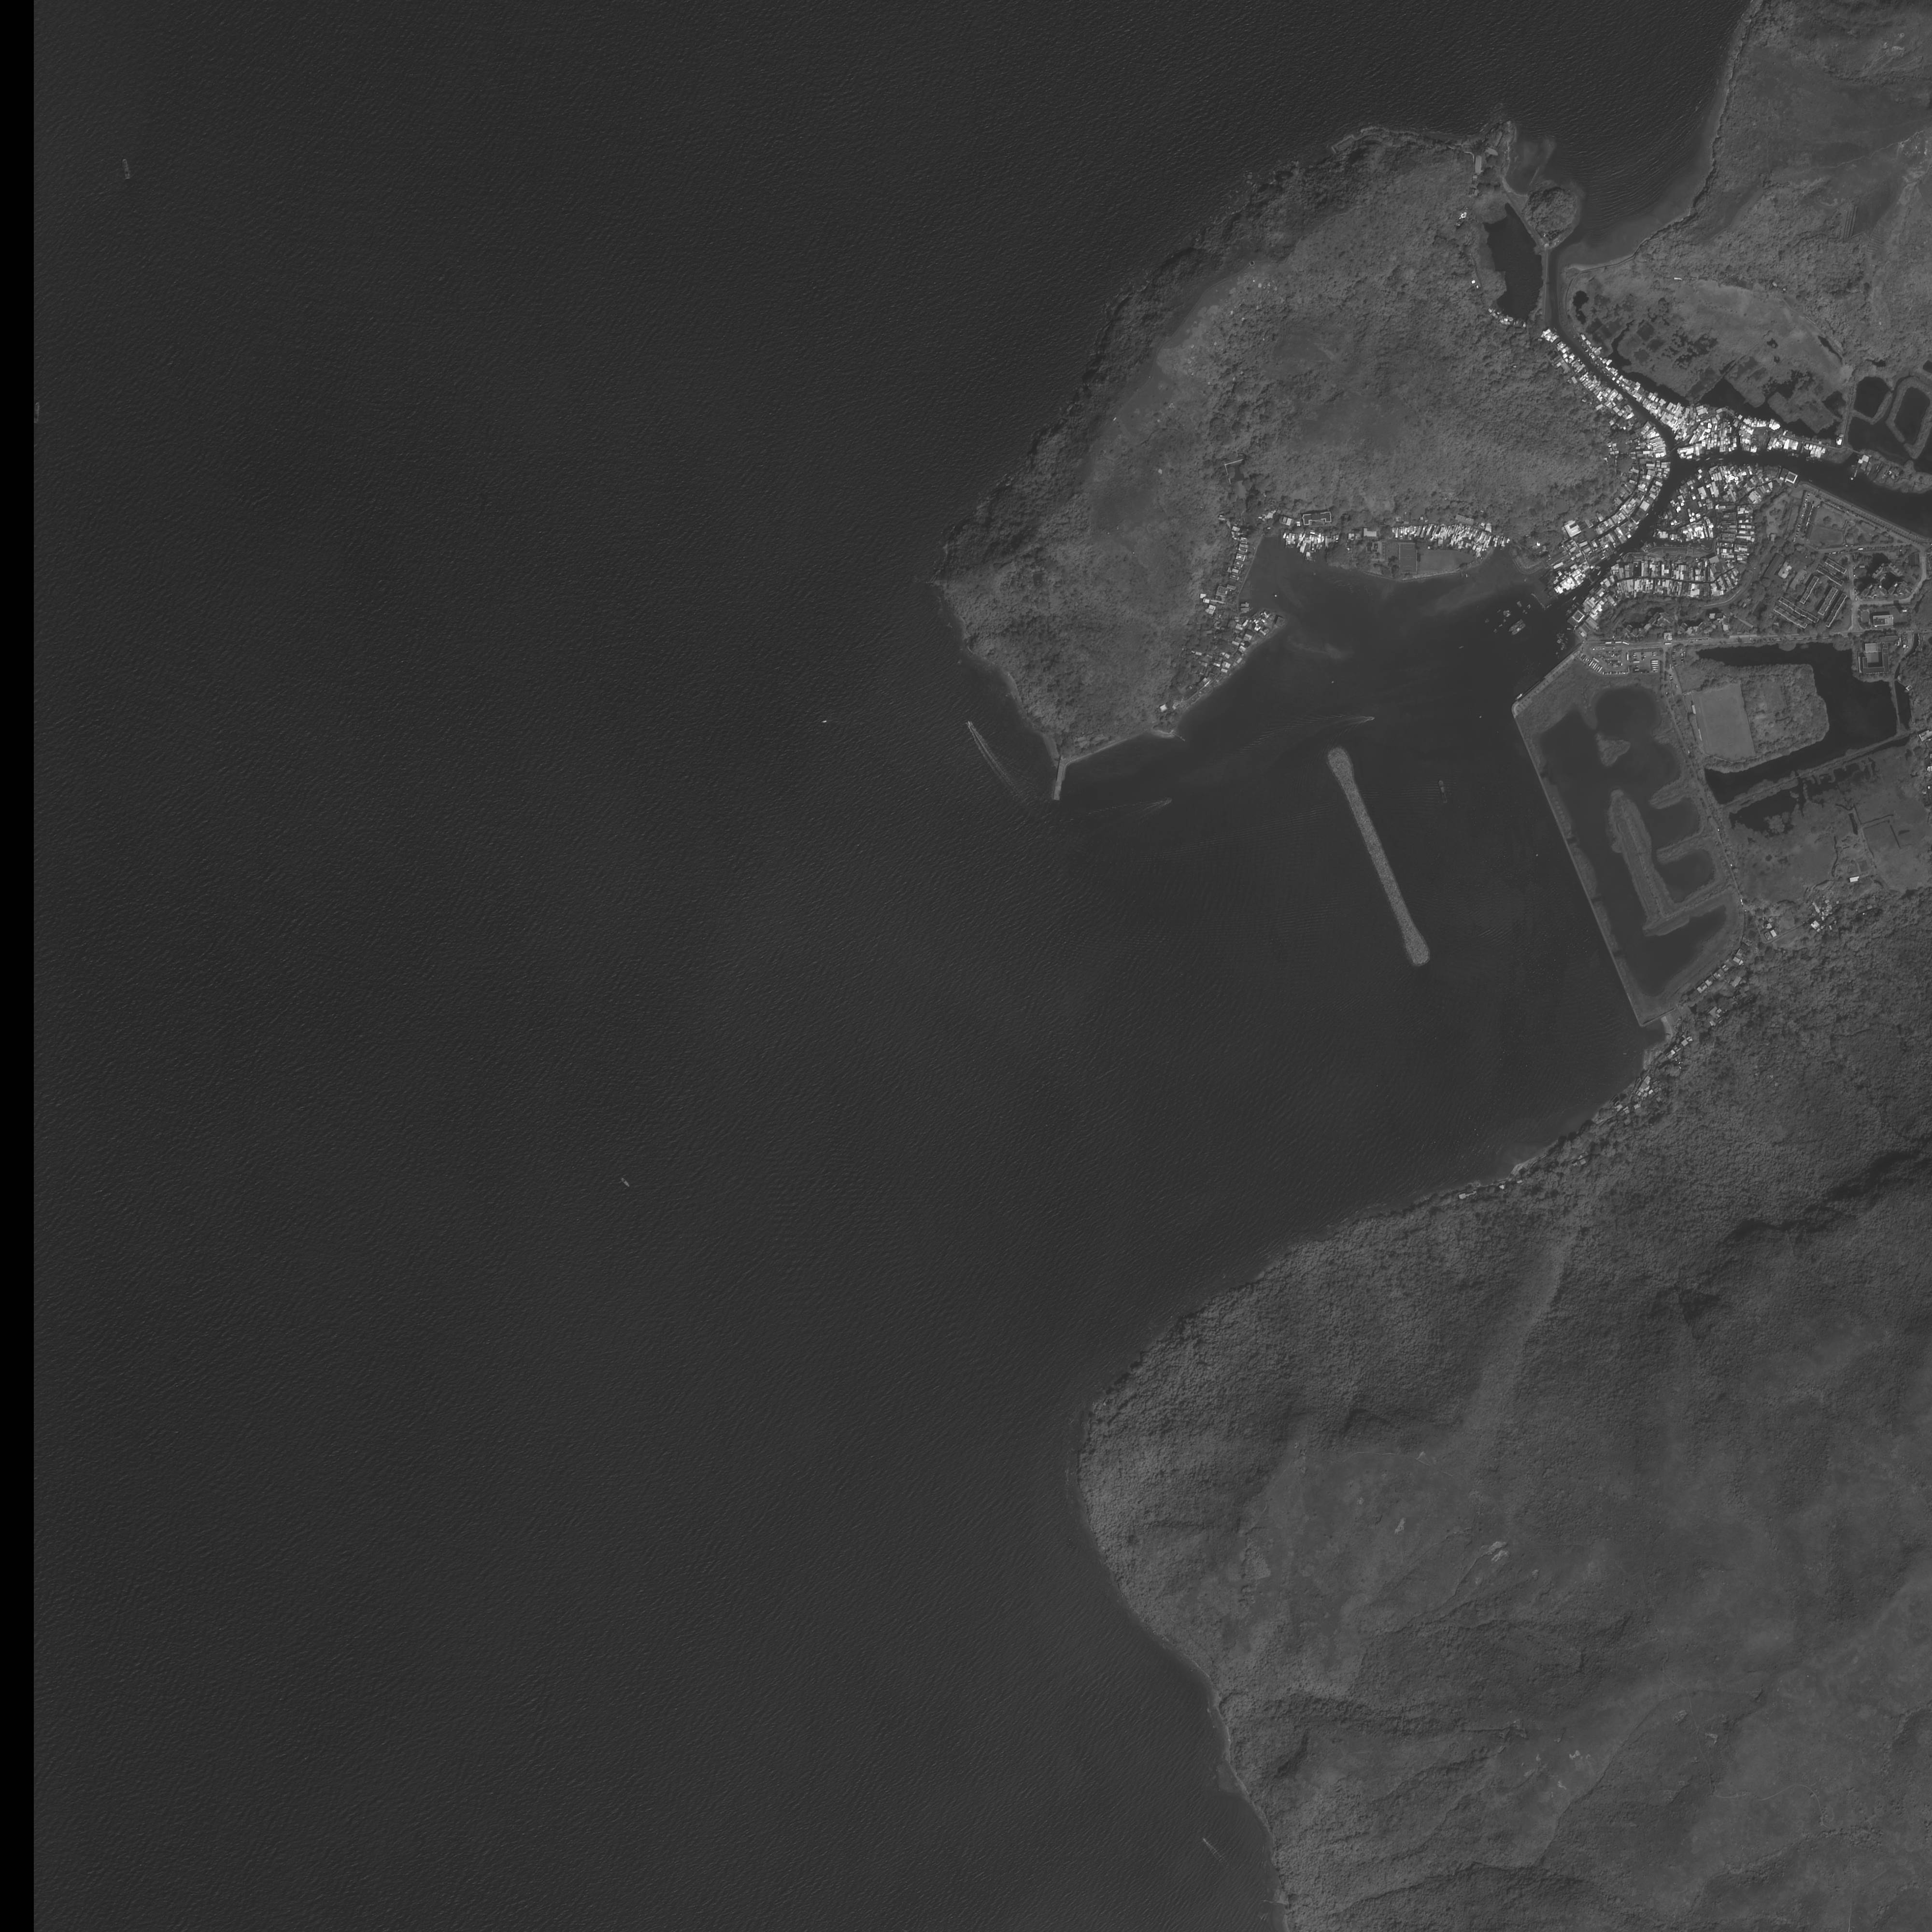harbor: (1053, 764, 1067, 801)
ship: (1511, 623, 1527, 637), (1438, 778, 1447, 801), (1507, 619, 1522, 633), (122, 159, 131, 180), (621, 1177, 632, 1189), (34, 402, 39, 423), (1514, 694, 1523, 701), (968, 720, 973, 727)
